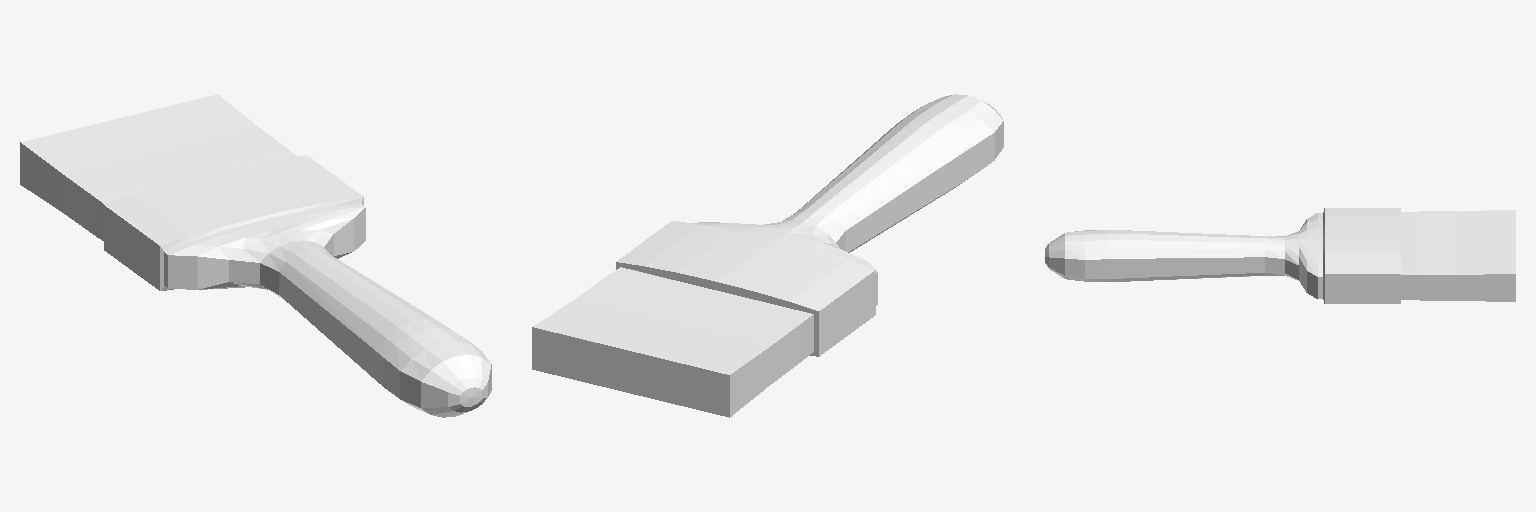
The robot description file, URDF, robot "paint_brush":
<?xml version="1.0" ?>
    <robot name="paint_brush">
    <link name="base">
        <inertial>
            <origin rpy="0 0 0" xyz="0 0 0"/>
            <mass value="1.0"/>
            <inertia ixx="1" ixy="0" ixz="0" iyy="1" iyz="0" izz="1"/>
        </inertial>
    <visual>
        <origin rpy="0 0 0" xyz="0 0 0"/>
        <geometry>
        <mesh filename="./meshes/paint_brush.obj" scale="1 1 1"/>
        </geometry>
        <material name="white">
        <color rgba="1 1 1 1"/>
        </material>
    </visual>
    <collision>
        <origin rpy="0 0 0" xyz="0 0 0"/>
        <geometry>
        <mesh filename="./meshes/paint_brush_vhacd.obj" scale="1 1 1"/>
        </geometry>
    </collision>
    </link>
    <link name="grasp">
        <inertial>
        <origin rpy="0 0 0" xyz="0 0 0"/>
        <mass value="0.0"/>
        <inertia ixx="1" ixy="0" ixz="0" iyy="1" iyz="0" izz="1"/>
        </inertial>
    </link>
    <joint name="base__grasp" type="fixed">
        <origin xyz="0.0 0.0 0.0" rpy="0.0 0.0 0.0"/>
        <parent link="base"/>
        <child link="grasp"/>
    </joint>
    </robot>

--- What the picture shows (computed from the rendered views, not written in the file) ---
Views: 3 orthographic renders of the robot side by side, from view 1: azimuth 30°, elevation 25°; view 2: azimuth 150°, elevation 25°; view 3: azimuth 270°, elevation 25°.
Robot: paint_brush — 2 links, 1 joints (1 fixed); root link base; default pose: every joint at zero.
Links seen in each view (by area): view 1: base; view 2: base; view 3: base.
Boxes of the visible links, box(x1,y1,x2,y2) form: base: box(20, 94, 491, 417); base: box(532, 94, 1003, 417); base: box(1045, 208, 1515, 303).
Size in the robot's own frame: 0.0847 by 0.2542 by 0.0267 metres.
1 mesh visuals loaded from 1 distinct referenced files (1 OBJ).